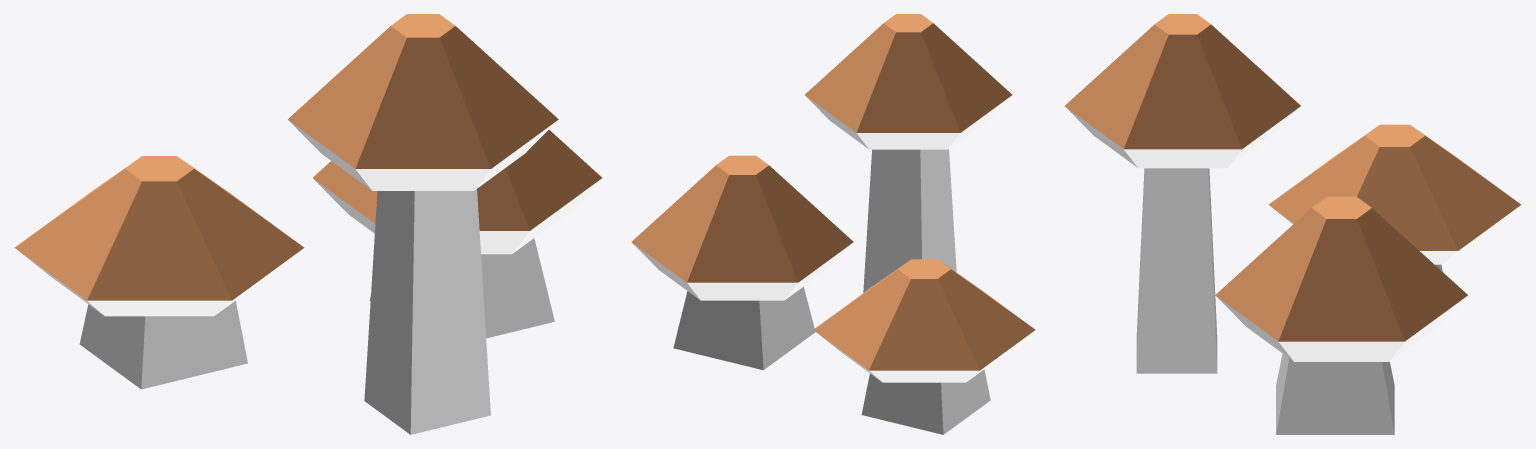
The model's file is mushroom_brownGroup.obj.
3 views of the same model, side by side, from view 1: azimuth 30°, elevation 25°; view 2: azimuth 150°, elevation 25°; view 3: azimuth 270°, elevation 25° (orthographic). The views are drawn at different scales.
Visible parts, largest first — view 1: mushroom_brownGroup; view 2: mushroom_brownGroup; view 3: mushroom_brownGroup.
Boxes of the visible parts, x1=… form: mushroom_brownGroup: x1=14, y1=14, x2=601, y2=434; mushroom_brownGroup: x1=631, y1=14, x2=1035, y2=434; mushroom_brownGroup: x1=1065, y1=14, x2=1521, y2=434.
Size of the model in its own units: 2.94 by 2.2 by 2.75.
